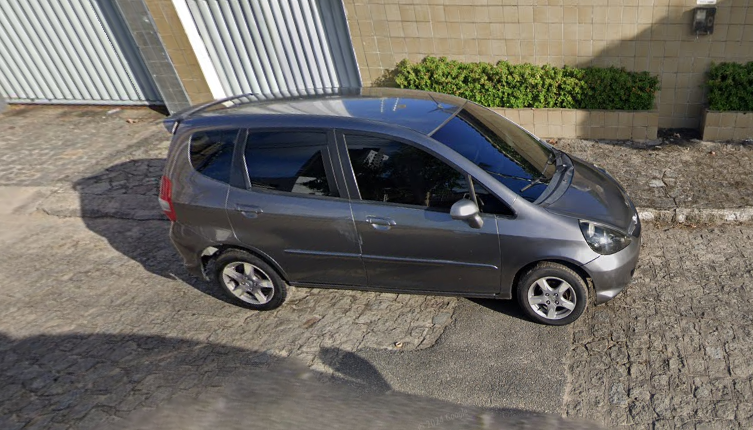car: (157, 88, 646, 330)
